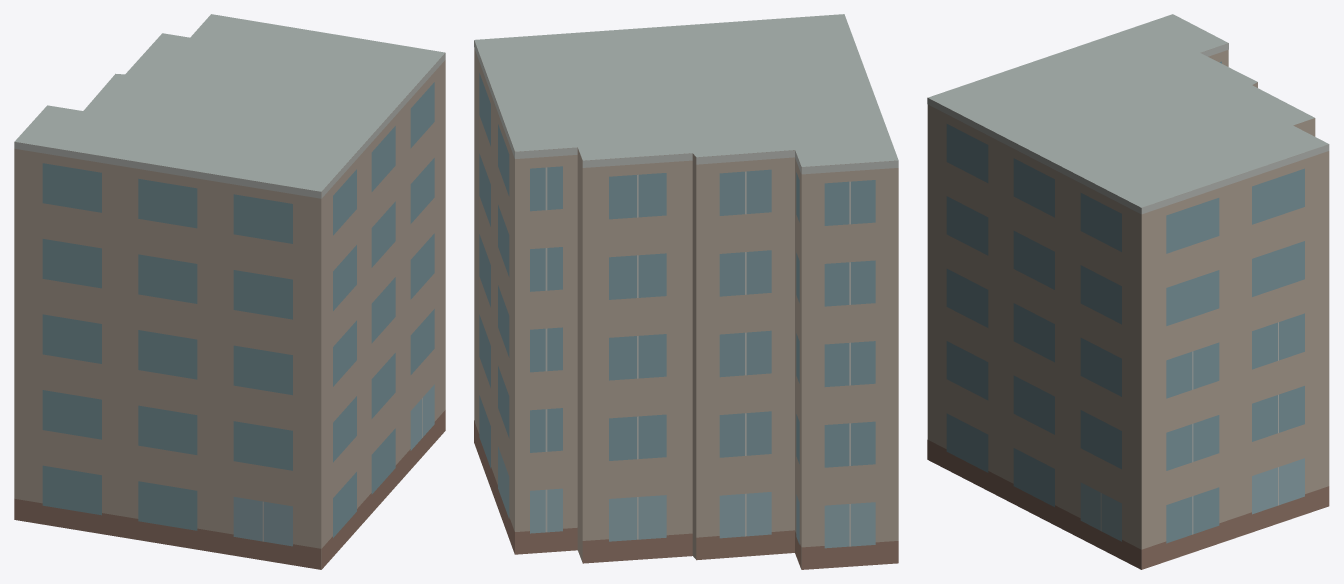
Rendered from survey-upis-32576821.glb.
The picture shows the model from 3 angles, left to right: view 1: azimuth 30°, elevation 25°; view 2: azimuth 150°, elevation 25°; view 3: azimuth 270°, elevation 25°; orthographic projection. The views are drawn at different scales.
Parts seen in each view (by area): view 1: survey-upis-32576821.tmp; view 2: survey-upis-32576821.tmp; view 3: survey-upis-32576821.tmp.
Boxes of the visible parts, box(x1,y1,x2,y2) form: survey-upis-32576821.tmp: box(14, 14, 445, 569); survey-upis-32576821.tmp: box(474, 14, 898, 569); survey-upis-32576821.tmp: box(927, 14, 1329, 569).
Bounding box in the file's own units: 15.28 × 13.3 × 13.38.
